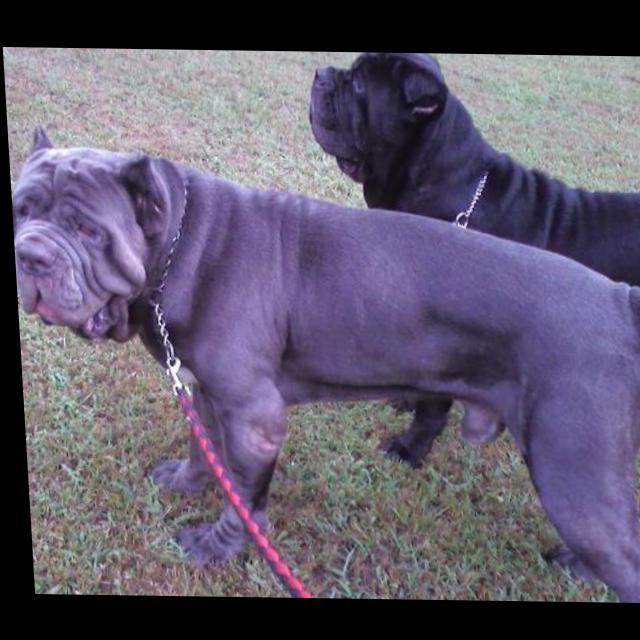mastino_napoletano: (7, 123, 640, 601), (306, 51, 640, 474)
